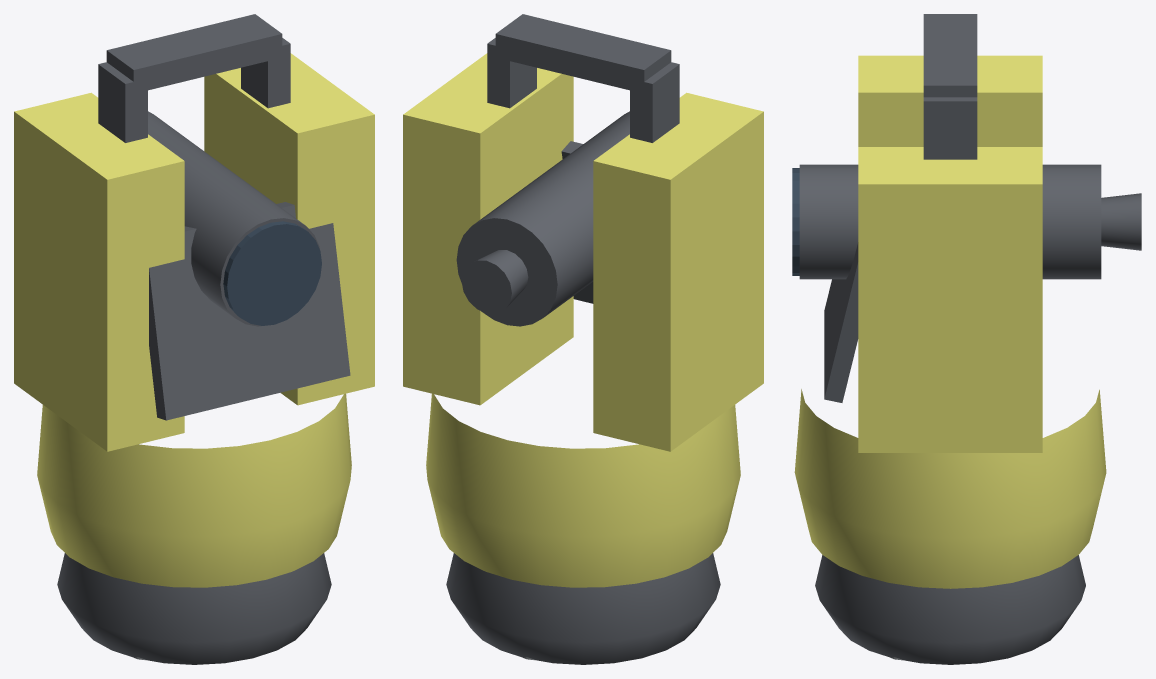
The model's file is TST-TOP-GM-52.glb.
The picture shows the model from 3 angles, left to right: view 1: azimuth 30°, elevation 25°; view 2: azimuth 150°, elevation 25°; view 3: azimuth 270°, elevation 25°; orthographic projection.
Parts seen in each view (by area): view 1: TST-TOP-GM-52; view 2: TST-TOP-GM-52; view 3: TST-TOP-GM-52.
Part boxes in pixels (<box>): TST-TOP-GM-52: <box>14,14,374,664</box>; TST-TOP-GM-52: <box>403,14,763,664</box>; TST-TOP-GM-52: <box>792,14,1141,664</box>.
Bounding box in the file's own units: 0.1684 × 0.3376 × 0.1886.
